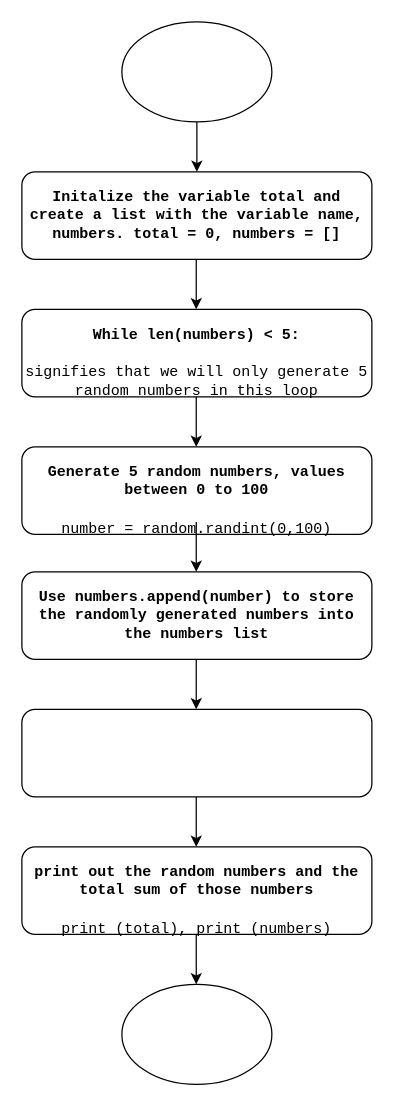
Image size: 394x1106. Some labels were removed from this diagram. Each missing label, with the centre of its shape:
"End" goes at (196,1033).
"Start" goes at (196,71).
"total += number will generate the sum of the 5 random numbers" goes at (196,752).
